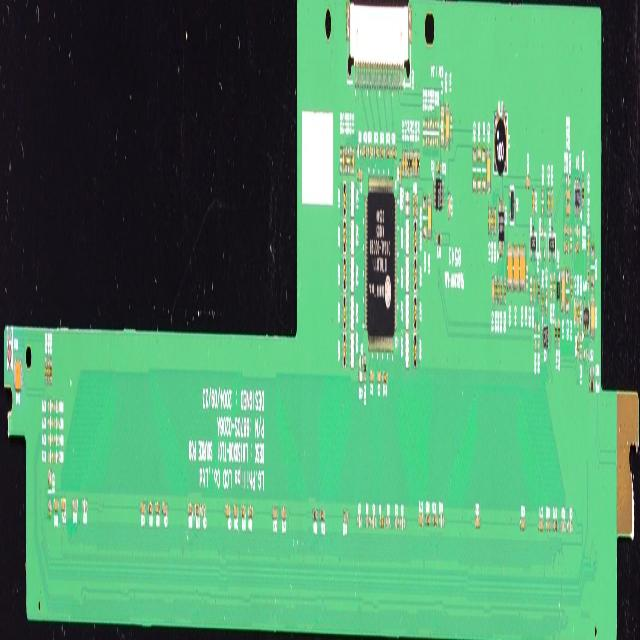Capacitor Jumper: (512, 242, 520, 290), (471, 140, 477, 193), (13, 359, 22, 392), (426, 195, 432, 241), (519, 246, 525, 288), (422, 192, 427, 241), (507, 242, 512, 290), (477, 143, 481, 193), (566, 266, 570, 316), (486, 151, 491, 190), (591, 243, 595, 290), (560, 270, 564, 315), (590, 298, 595, 334), (445, 104, 449, 146), (482, 146, 485, 195), (416, 510, 424, 527), (162, 498, 168, 519), (519, 514, 526, 531), (398, 158, 402, 187), (356, 164, 362, 183), (376, 368, 382, 387), (532, 276, 536, 304), (573, 298, 577, 326), (71, 496, 78, 512), (474, 514, 481, 530), (550, 188, 554, 215), (368, 366, 374, 384), (232, 501, 238, 519), (272, 504, 278, 522), (438, 511, 444, 529), (566, 518, 573, 533), (357, 368, 363, 385), (140, 498, 146, 515), (280, 504, 286, 521), (538, 517, 544, 534), (60, 497, 66, 513), (404, 150, 407, 180), (541, 187, 544, 217), (579, 298, 582, 328), (53, 499, 59, 514), (201, 499, 206, 517), (343, 509, 349, 524), (352, 144, 355, 173), (547, 187, 550, 216), (545, 288, 548, 317), (579, 330, 582, 359), (358, 353, 363, 369), (401, 148, 404, 174), (525, 176, 530, 191), (565, 204, 571, 216), (48, 468, 52, 486), (342, 142, 344, 176), (448, 190, 450, 223), (225, 503, 230, 516), (550, 271, 552, 303), (492, 274, 494, 306), (530, 275, 532, 305), (488, 206, 490, 235), (494, 208, 496, 236), (532, 190, 534, 215), (412, 151, 414, 175), (415, 151, 417, 175), (566, 190, 570, 202)
IC: (363, 167, 399, 356), (432, 176, 446, 213)
Resistor Jumper: (80, 497, 89, 514), (146, 498, 154, 516), (586, 229, 590, 263), (155, 499, 161, 519), (53, 398, 59, 417), (194, 500, 200, 519), (552, 516, 559, 532), (574, 238, 580, 256), (576, 332, 580, 359), (356, 511, 362, 529), (364, 515, 371, 530), (339, 144, 342, 178), (586, 265, 590, 290), (537, 321, 540, 354), (355, 144, 362, 158), (399, 516, 406, 530), (429, 116, 432, 148), (385, 146, 391, 162), (525, 261, 528, 293), (541, 288, 544, 320), (554, 318, 557, 350), (49, 356, 52, 388), (47, 432, 53, 448), (187, 502, 193, 518), (393, 515, 399, 531), (503, 276, 506, 307), (557, 317, 560, 348), (422, 116, 425, 146), (349, 146, 352, 176), (574, 223, 580, 238), (563, 223, 569, 238), (371, 512, 377, 527), (385, 516, 391, 531), (570, 274, 573, 303), (44, 356, 47, 385), (368, 145, 373, 162), (313, 506, 318, 523), (565, 174, 571, 188), (537, 275, 540, 303), (47, 450, 53, 464), (53, 450, 59, 464), (432, 514, 438, 528), (379, 514, 385, 528), (560, 520, 566, 534), (391, 144, 396, 160), (382, 368, 387, 384), (248, 502, 252, 522), (53, 434, 59, 447), (545, 517, 551, 530), (48, 398, 53, 413), (589, 365, 595, 377), (53, 417, 59, 429), (374, 144, 379, 158), (494, 272, 496, 307), (434, 116, 436, 148), (436, 117, 438, 149), (432, 118, 434, 150), (345, 144, 347, 176), (436, 160, 440, 176), (553, 270, 555, 302), (320, 506, 324, 522), (425, 118, 427, 149), (347, 145, 349, 176), (428, 117, 430, 147), (379, 147, 384, 159), (491, 207, 493, 237), (534, 322, 536, 352), (47, 417, 52, 429), (241, 504, 245, 519), (582, 178, 584, 207), (362, 144, 366, 158), (500, 276, 502, 304), (47, 357, 49, 385), (497, 275, 499, 302), (577, 300, 579, 326), (564, 241, 568, 253), (426, 514, 430, 526)
Transistor: (573, 175, 581, 220), (583, 297, 589, 339)
iC: (498, 197, 504, 258), (542, 323, 550, 351)
